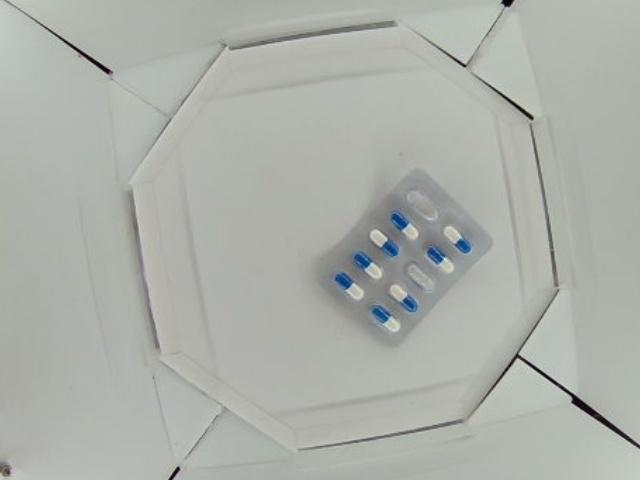Medicine: (314, 164, 496, 344)
